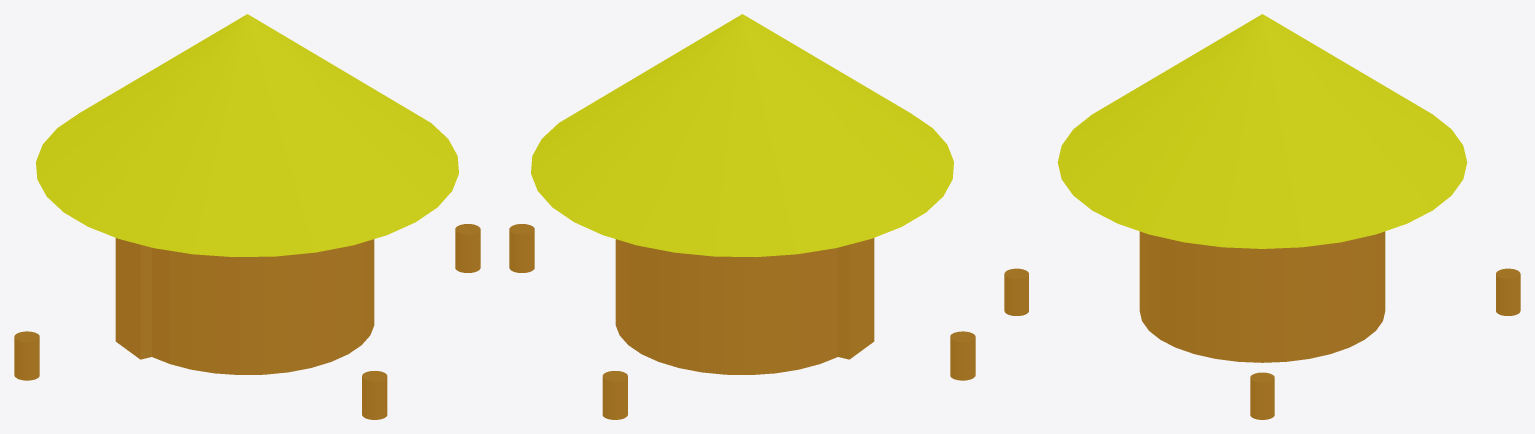
Rendered from hut.glb.
3 views of the same model, side by side, from view 1: azimuth 30°, elevation 25°; view 2: azimuth 150°, elevation 25°; view 3: azimuth 270°, elevation 25° (orthographic). The views are drawn at different scales.
Visible parts, largest first — view 1: Hut 1.004, Hut 1.005, Hut 1.003, Hut 1.001; view 2: Hut 1.004, Hut 1.005, Hut 1.002, Hut 1.001; view 3: Hut 1.004, Hut 1.001, Hut 1.003, Hut 1.002.
Part boxes in pixels (left/top/right/bottom): Hut 1.004: left=36, top=14, right=458, bottom=374; Hut 1.005: left=14, top=331, right=39, bottom=380; Hut 1.003: left=362, top=371, right=387, bottom=419; Hut 1.001: left=455, top=224, right=480, bottom=272; Hut 1.004: left=531, top=14, right=953, bottom=374; Hut 1.005: left=950, top=331, right=975, bottom=380; Hut 1.002: left=602, top=371, right=627, bottom=419; Hut 1.001: left=509, top=224, right=534, bottom=272; Hut 1.004: left=1057, top=14, right=1467, bottom=362; Hut 1.001: left=1250, top=372, right=1274, bottom=419; Hut 1.003: left=1004, top=268, right=1028, bottom=315; Hut 1.002: left=1496, top=268, right=1520, bottom=315.
Size of the model in its own units: 0.063 by 0.04 by 0.063.
